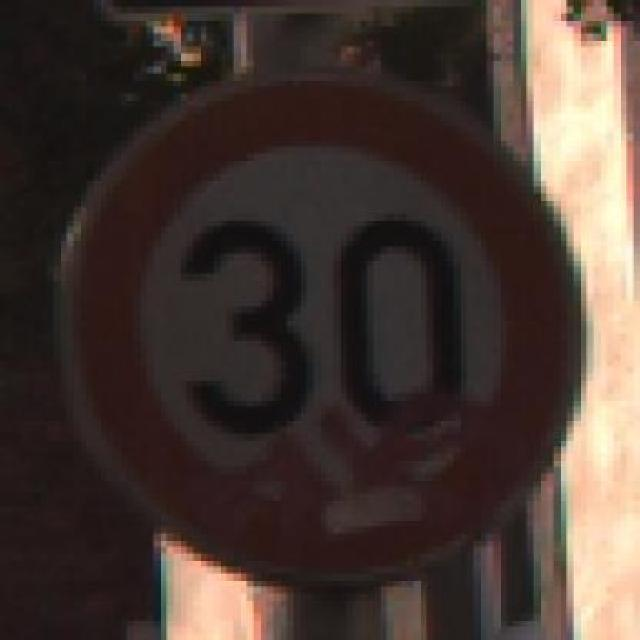Speed Limit 30 KMPh: (20, 60, 600, 594)
